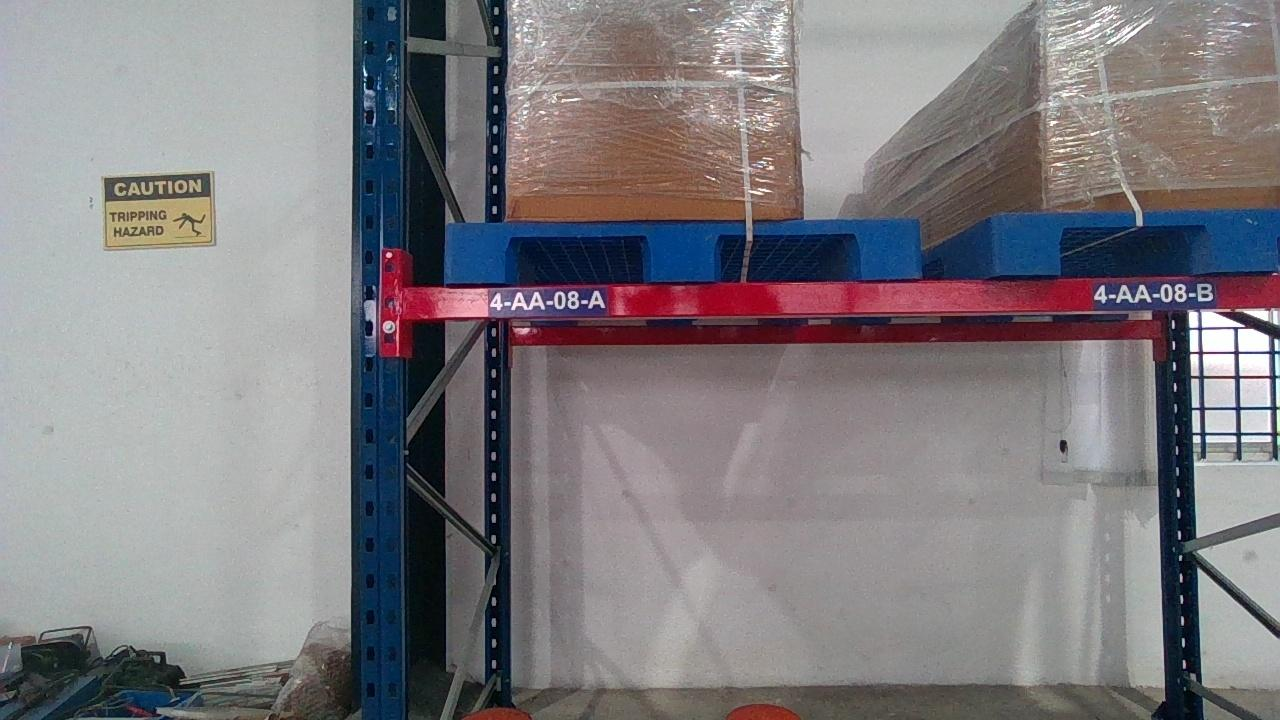h_rack: (405, 276, 1278, 317)
small_pallet: (441, 218, 920, 278), (997, 207, 1278, 269)
